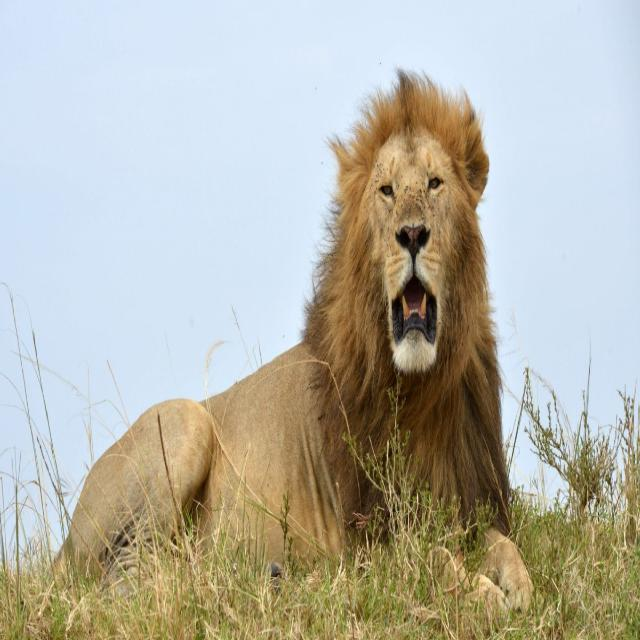lions: (70, 52, 606, 640)
